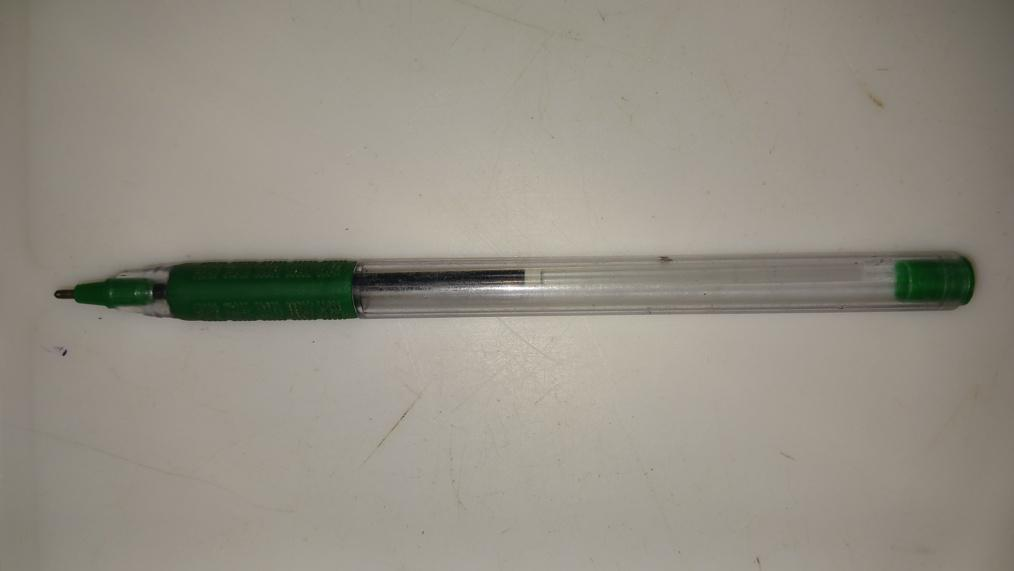pen: (51, 256, 981, 322)
